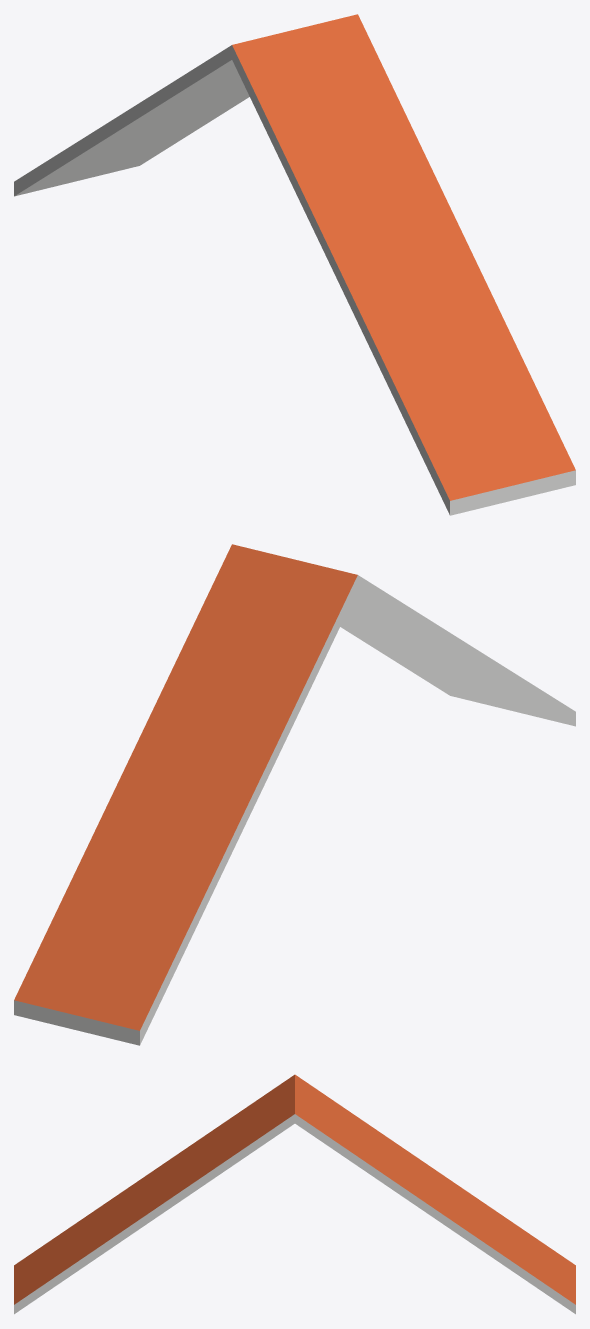
Rendered from telhado_duas_aguas_v6_i75_1m.glb.
3 renders of one model, top to bottom at view 1: azimuth 30°, elevation 25°; view 2: azimuth 150°, elevation 25°; view 3: azimuth 270°, elevation 25°, orthographic. The views are drawn at different scales.
Visible parts, largest first — view 1: telhado_duas_aguas_v6_i75_1m; view 2: telhado_duas_aguas_v6_i75_1m; view 3: telhado_duas_aguas_v6_i75_1m.
Part boxes in pixels (left/top/right/bottom): telhado_duas_aguas_v6_i75_1m: left=14, top=14, right=575, bottom=515; telhado_duas_aguas_v6_i75_1m: left=14, top=544, right=575, bottom=1045; telhado_duas_aguas_v6_i75_1m: left=14, top=1074, right=575, bottom=1314.
Bounding box in the file's own units: 1 × 2.36 × 6.
